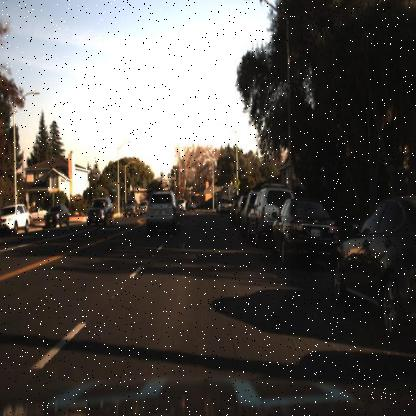car: (331, 193, 415, 334), (270, 193, 344, 263), (246, 184, 295, 247), (144, 187, 182, 238), (1, 203, 30, 236), (85, 197, 114, 226), (44, 204, 71, 229), (123, 198, 139, 220), (186, 193, 200, 212)
